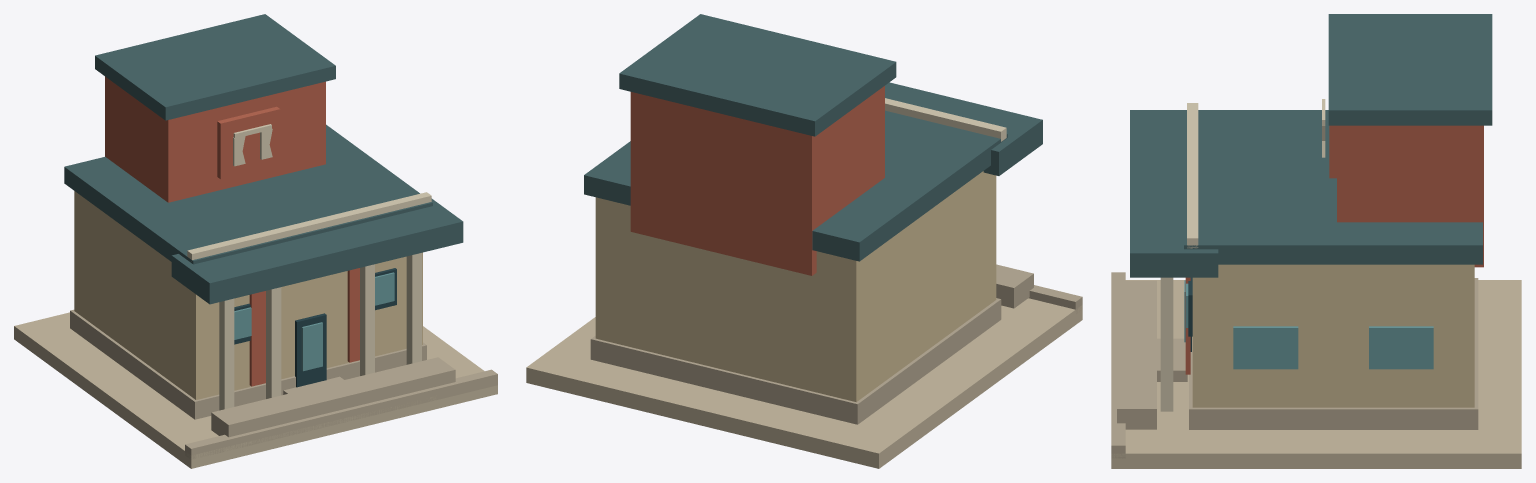
The model's file is theatre-sunrise-complete.glb.
The picture shows the model from 3 angles, left to right: view 1: azimuth 30°, elevation 25°; view 2: azimuth 150°, elevation 25°; view 3: azimuth 270°, elevation 25°; orthographic projection. The views are drawn at different scales.
Visible parts, largest first — view 1: theatre; view 2: theatre; view 3: theatre.
Part boxes in pixels (x1,y1,x2,y2): theatre: (14,14,497,468); theatre: (526,14,1082,468); theatre: (1111,14,1521,468).
Bounding box in the file's own units: 2.88 × 2.48 × 2.88.
